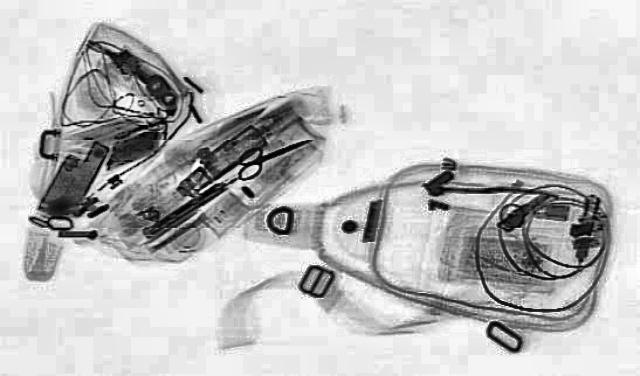Scissors: (218, 128, 322, 180)
